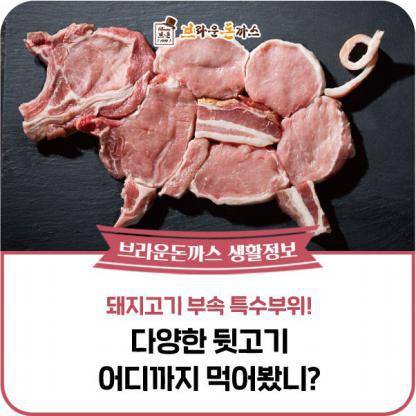pork: (22, 24, 402, 232)
